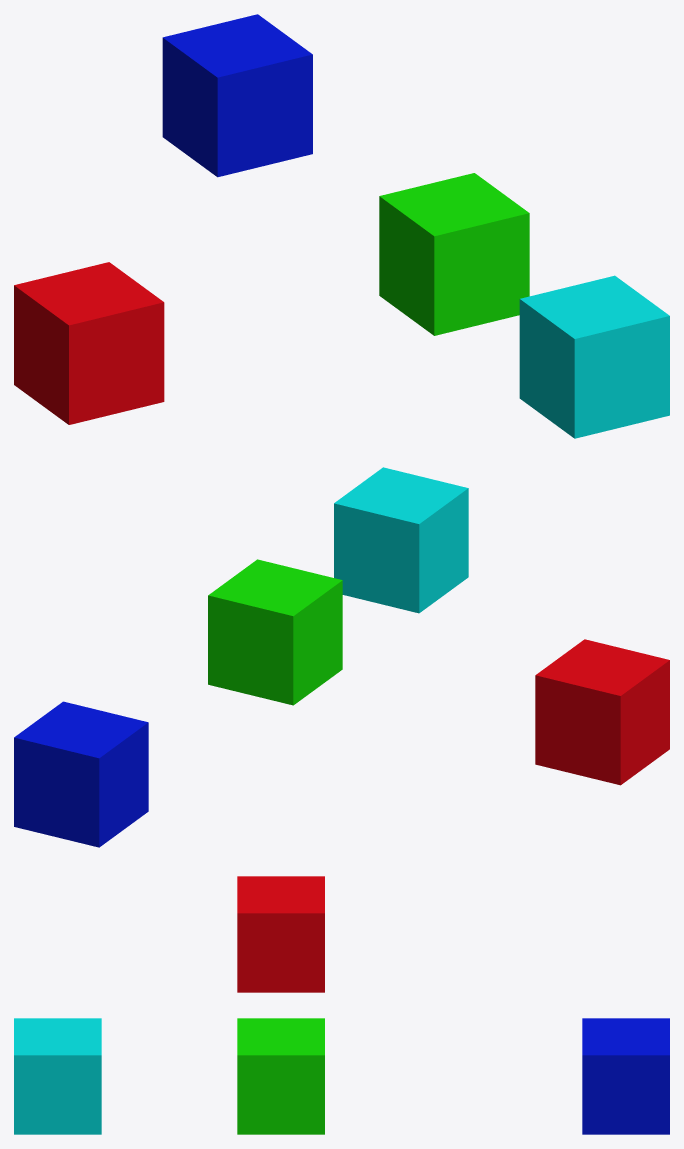
File: squareScene.fbx
The picture shows the model from 3 angles, top to bottom: view 1: azimuth 30°, elevation 25°; view 2: azimuth 150°, elevation 25°; view 3: azimuth 270°, elevation 25°; orthographic projection. The views are drawn at different scales.
Visible parts, largest first — view 1: Cube.001, Cube.003, Cube, Cube.002; view 2: Cube, Cube.001, Cube.002, Cube.003; view 3: Cube, Cube.001, Cube.002, Cube.003.
Part boxes in pixels (box(x1,y1,x2,y2)): Cube.001: box(162, 14, 312, 177); Cube.003: box(519, 275, 669, 438); Cube: box(14, 262, 164, 424); Cube.002: box(379, 173, 529, 335); Cube: box(535, 639, 669, 785); Cube.001: box(14, 701, 148, 847); Cube.002: box(208, 559, 342, 705); Cube.003: box(334, 467, 468, 613); Cube: box(237, 876, 324, 992); Cube.001: box(582, 1018, 669, 1134); Cube.002: box(237, 1018, 324, 1134); Cube.003: box(14, 1018, 101, 1134).
Bounding box in the file's own units: 9.67 × 2 × 14.99.
